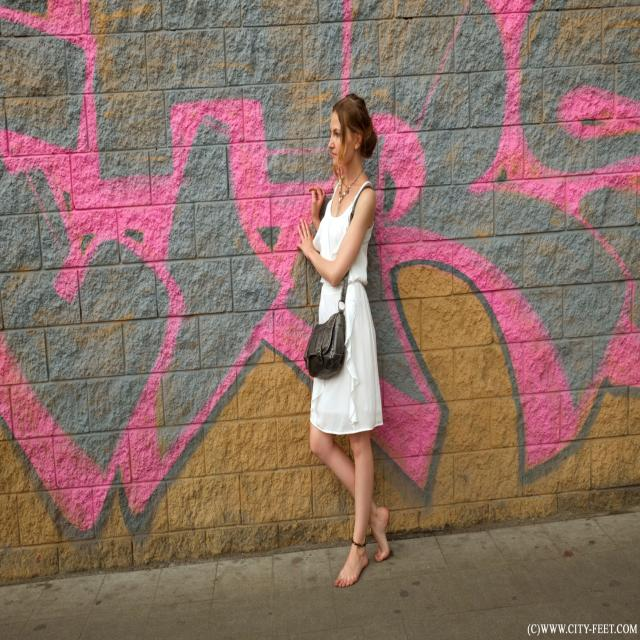No Safety Boots: (334, 548, 368, 588), (374, 506, 390, 562)
